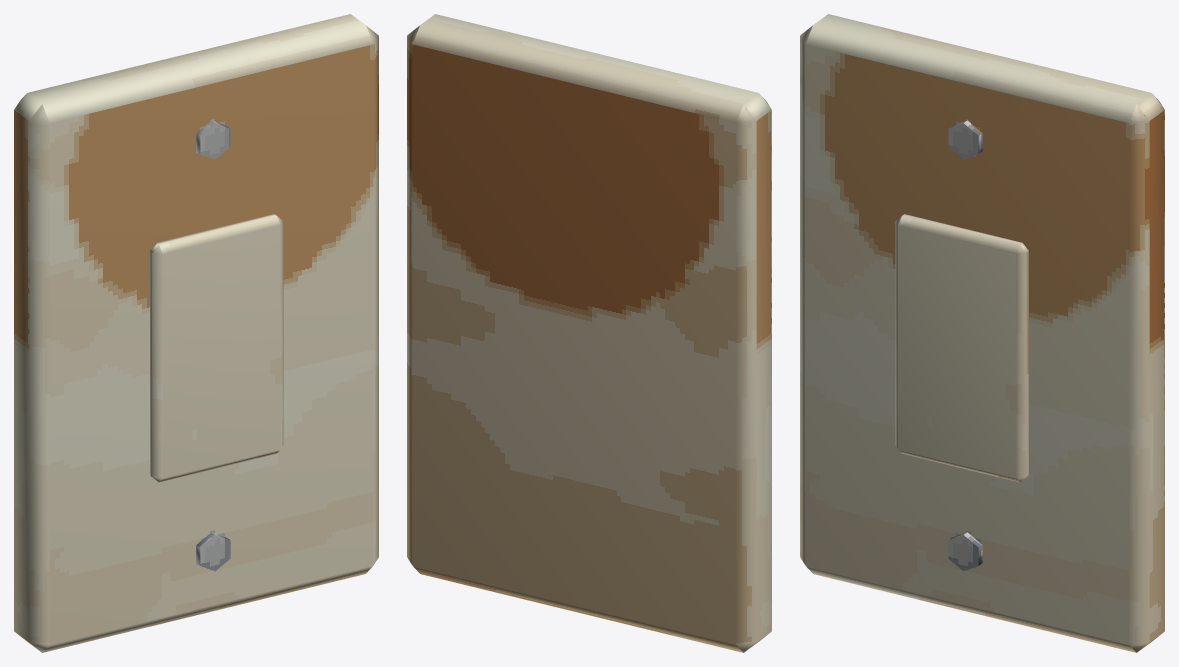
Rendered from gk_switch.glb.
The picture shows the model from 3 angles, left to right: view 1: azimuth 30°, elevation 25°; view 2: azimuth 150°, elevation 25°; view 3: azimuth 330°, elevation 25°; orthographic projection.
Parts seen in each view (by area): view 1: mesh; view 2: mesh; view 3: mesh.
Boxes of the visible parts, <box> form: mesh: <box>14,14,378,652</box>; mesh: <box>407,14,771,652</box>; mesh: <box>800,14,1164,652</box>.
Bounding box in the file's own units: 0.08 × 0.12 × 0.016.
Materials: 1 (1 with a texture image).
